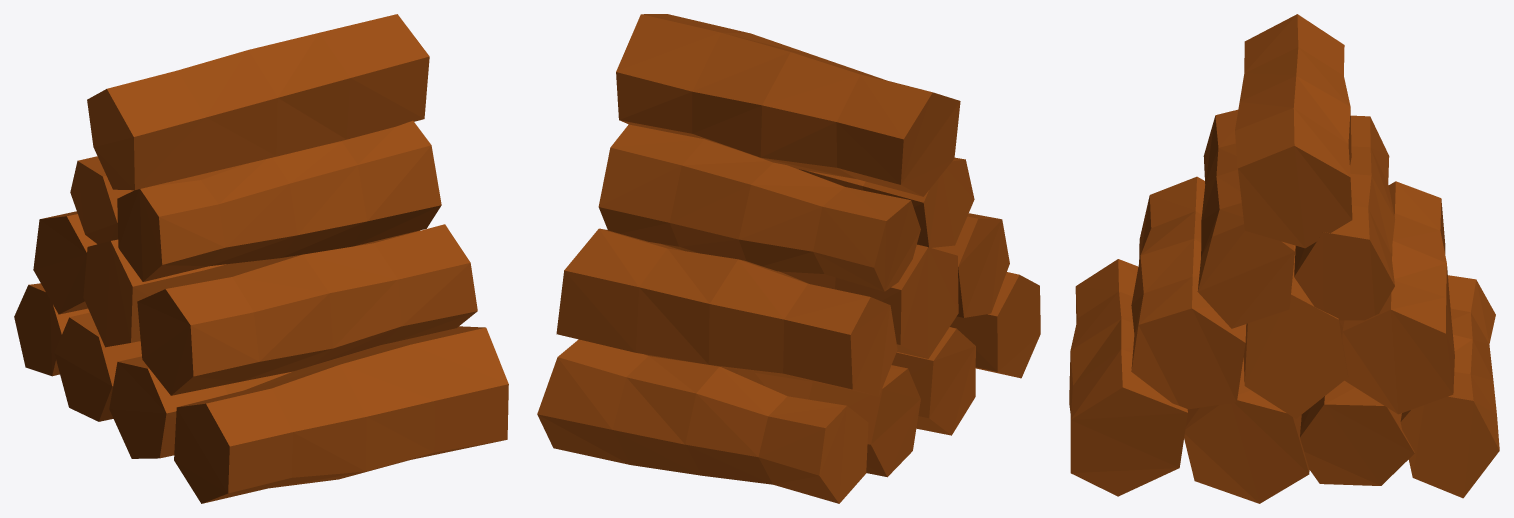
The model's file is WoodStack2.fbx.
3 renders of one model, left to right at view 1: azimuth 30°, elevation 25°; view 2: azimuth 150°, elevation 25°; view 3: azimuth 270°, elevation 25°, orthographic. The views are drawn at different scales.
Parts seen in each view (by area): view 1: WoodStack2; view 2: WoodStack2; view 3: WoodStack2.
Part boxes in pixels (bbox=[...]): WoodStack2: bbox=[14, 14, 508, 503]; WoodStack2: bbox=[537, 14, 1040, 503]; WoodStack2: bbox=[1069, 14, 1499, 503].
Size of the model in its own units: 121 by 146 by 158.
